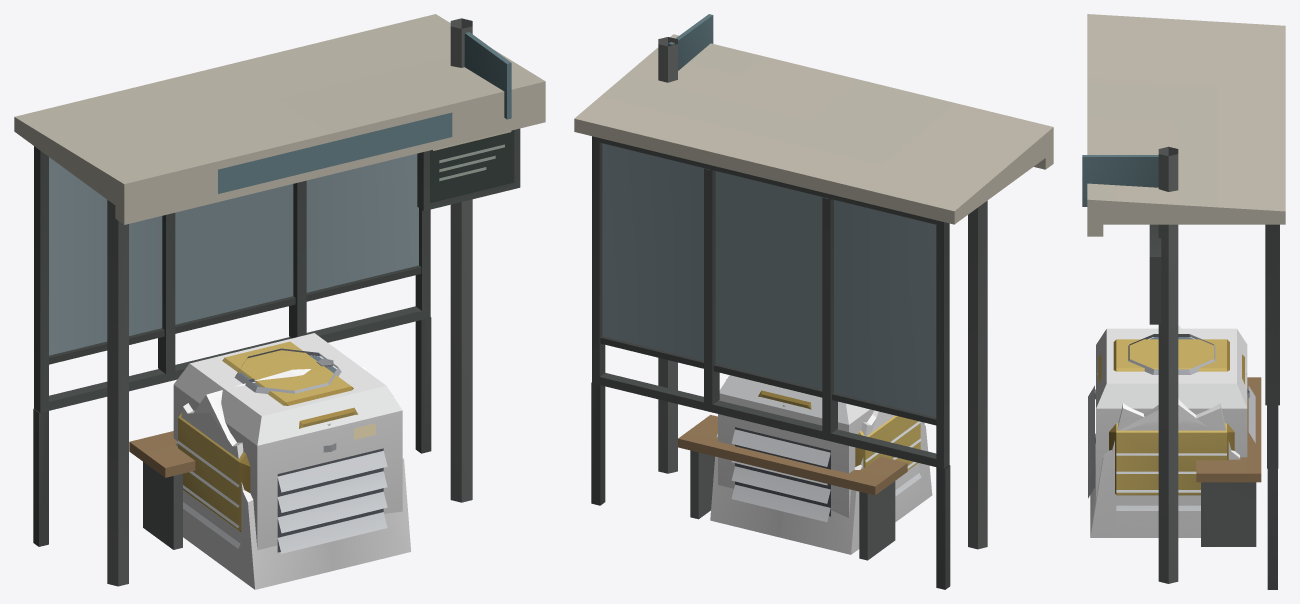
File: street2.glb
The picture shows the model from 3 angles, left to right: view 1: azimuth 30°, elevation 25°; view 2: azimuth 150°, elevation 25°; view 3: azimuth 270°, elevation 25°; orthographic projection. The views are drawn at different scales.
Parts seen in each view (by area): view 1: BusStop, Block, Bale, Row0, Row1, Hedge, Row3; view 2: BusStop, Block, Row0, Bale, Hedge, Row2; view 3: BusStop, Block, Bale, Row3, Row1, Hedge, Row2, Row0.
Boxes of the visible parts, x1=… form: BusStop: x1=14, y1=14, x2=545, y2=586; Block: x1=173, y1=333, x2=402, y2=553; Bale: x1=178, y1=341, x2=358, y2=531; Row0: x1=175, y1=421, x2=411, y2=589; Row1: x1=183, y1=423, x2=254, y2=589; Hedge: x1=187, y1=367, x2=366, y2=446; Row3: x1=182, y1=410, x2=236, y2=536; BusStop: x1=574, y1=14, x2=1053, y2=589; Block: x1=718, y1=375, x2=924, y2=522; Row0: x1=710, y1=423, x2=932, y2=554; Bale: x1=758, y1=390, x2=920, y2=470; Hedge: x1=871, y1=410, x2=919, y2=522; Row2: x1=726, y1=379, x2=931, y2=553; BusStop: x1=1082, y1=14, x2=1285, y2=589; Block: x1=1088, y1=328, x2=1255, y2=510; Bale: x1=1098, y1=339, x2=1244, y2=495; Row3: x1=1091, y1=416, x2=1228, y2=537; Row1: x1=1092, y1=422, x2=1200, y2=537; Hedge: x1=1115, y1=325, x2=1206, y2=537; Row2: x1=1091, y1=403, x2=1233, y2=537; Row0: x1=1090, y1=443, x2=1240, y2=537.
Size of the model in its own units: 2.76 by 2.9 by 1.25.
